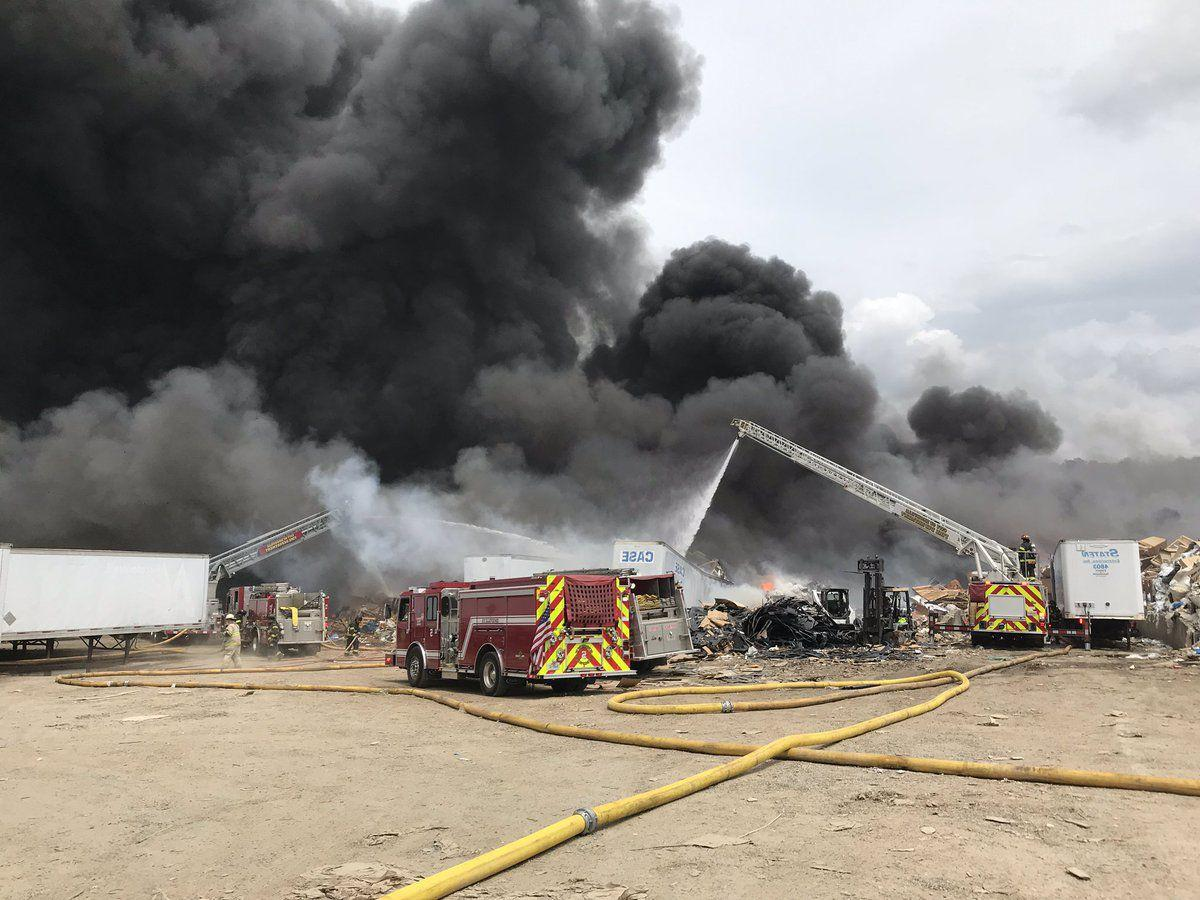fire: (759, 577, 782, 600)
